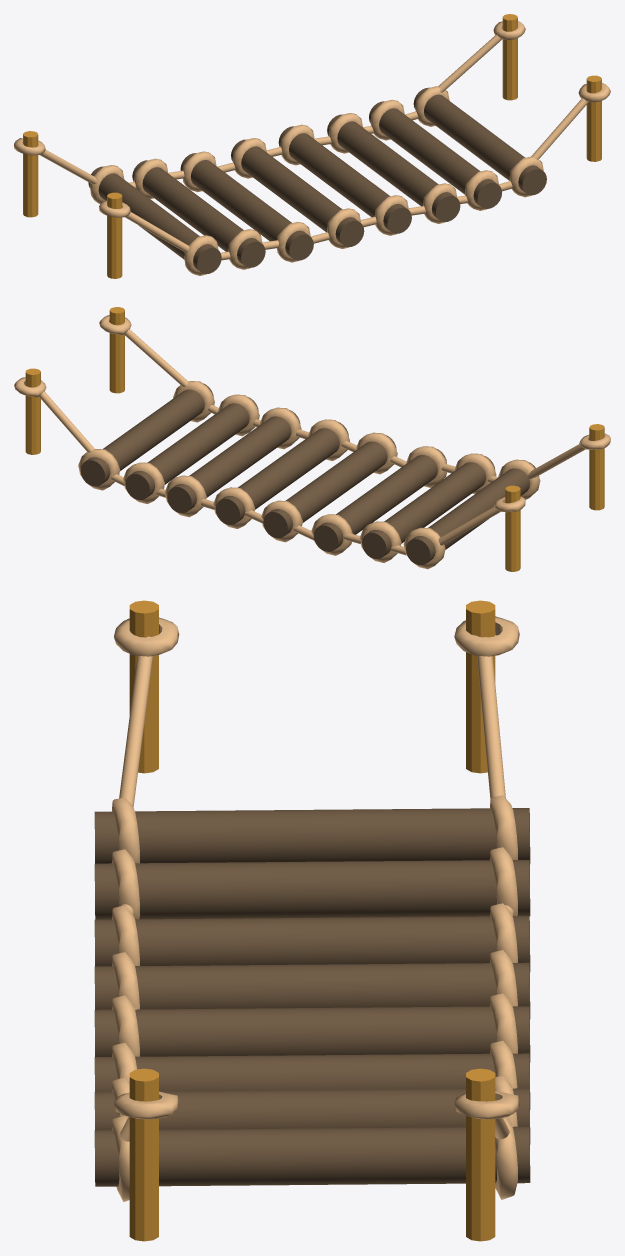
The model's file is Bridge_C.fbx.
3 views of the same model, one above another, from view 1: azimuth 30°, elevation 25°; view 2: azimuth 150°, elevation 25°; view 3: azimuth 270°, elevation 25° (orthographic). The views are drawn at different scales.
Visible parts, largest first — view 1: Bridge_1:pCylinder9; view 2: Bridge_1:pCylinder9; view 3: Bridge_1:pCylinder9.
Boxes of the visible parts, left/top/right/bottom form: Bridge_1:pCylinder9: left=14, top=14, right=610, bottom=278; Bridge_1:pCylinder9: left=14, top=307, right=610, bottom=571; Bridge_1:pCylinder9: left=94, top=600, right=530, bottom=1241.
Size of the model in its own units: 407 by 80.42 by 151.
